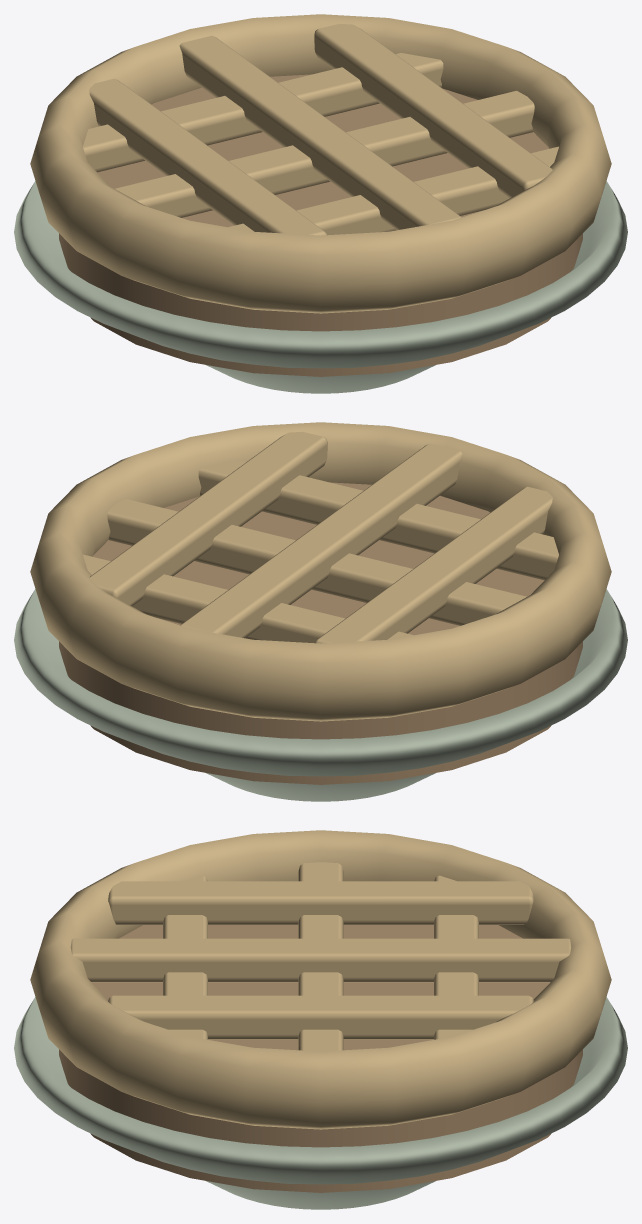
File: pie.glb
The picture shows the model from 3 angles, top to bottom: view 1: azimuth 30°, elevation 25°; view 2: azimuth 150°, elevation 25°; view 3: azimuth 270°, elevation 25°; orthographic projection.
Visible parts, largest first — view 1: crimped-crust, pie-dish, contained-pie-filling, lattice-z-0, lattice-z-0-075, lattice-z--0-075, lattice-x-0, lattice-x--0-075, lattice-x-0-075; view 2: crimped-crust, pie-dish, contained-pie-filling, lattice-z-0, lattice-z-0-075, lattice-z--0-075, lattice-x-0, lattice-x-0-075, lattice-x--0-075; view 3: crimped-crust, pie-dish, contained-pie-filling, lattice-z-0, lattice-z--0-075, lattice-z-0-075, lattice-x-0, lattice-x--0-075, lattice-x-0-075.
Part boxes in pixels (x1,y1,x2,y2): crimped-crust: (30, 14, 611, 313); pie-dish: (14, 181, 627, 393); contained-pie-filling: (59, 74, 582, 376); lattice-z-0: (179, 35, 461, 230); lattice-z-0-075: (314, 23, 552, 197); lattice-z--0-075: (89, 78, 326, 235); lattice-x-0: (115, 90, 534, 217); lattice-x--0-075: (83, 53, 443, 172); lattice-x-0-075: (228, 146, 558, 235); crimped-crust: (30, 422, 611, 721); pie-dish: (14, 589, 627, 801); contained-pie-filling: (59, 482, 582, 784); lattice-z-0: (180, 443, 462, 638); lattice-z-0-075: (89, 431, 327, 605); lattice-z--0-075: (315, 486, 552, 643); lattice-x-0: (107, 498, 526, 625); lattice-x-0-075: (198, 461, 558, 580); lattice-x--0-075: (83, 554, 413, 643); crimped-crust: (30, 830, 611, 1129); pie-dish: (14, 997, 627, 1209); contained-pie-filling: (59, 925, 582, 1192); lattice-z-0: (70, 938, 571, 982); lattice-z--0-075: (108, 881, 533, 924); lattice-z-0-075: (108, 995, 533, 1039); lattice-x-0: (298, 862, 343, 1051); lattice-x--0-075: (434, 875, 478, 1039); lattice-x-0-075: (163, 875, 207, 1039).
Size of the model in its own units: 0.34 by 0.1326 by 0.34.
